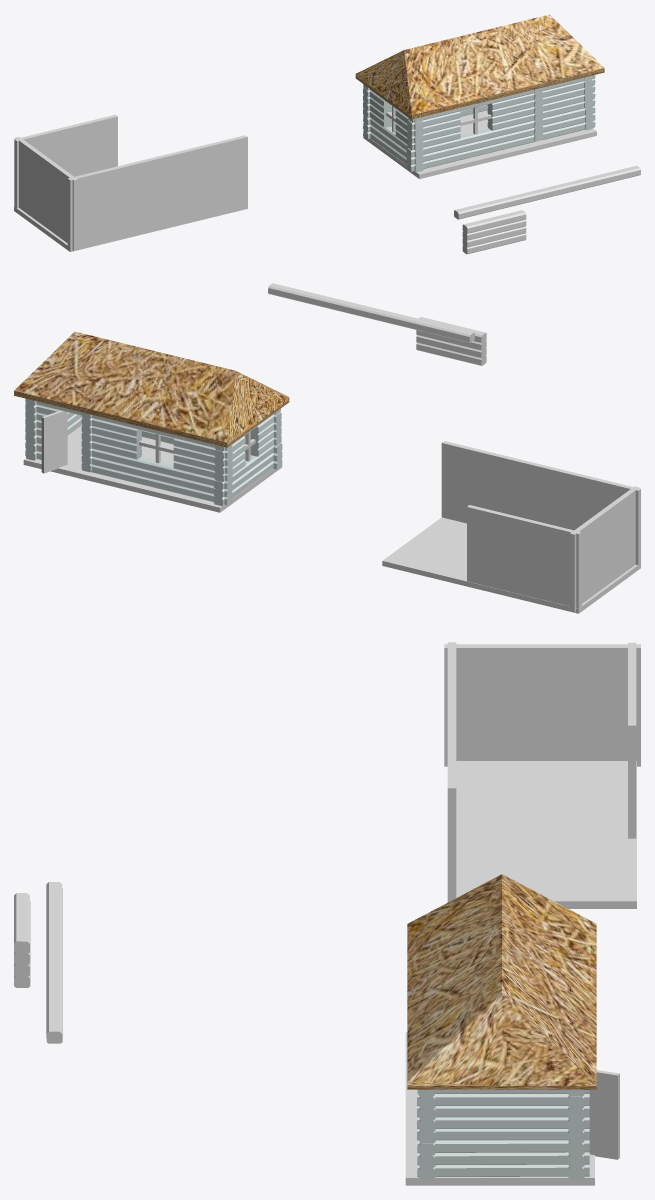
File: chata.fbx
3 views of the same model, one above another, from view 1: azimuth 30°, elevation 25°; view 2: azimuth 150°, elevation 25°; view 3: azimuth 270°, elevation 25° (orthographic). The views are drawn at different scales.
Visible parts, largest first — view 1: Cube.001, Cube.007, Cube.038, Cube.008, Cube.010, Cube, Cube.057, Cube.006, Cube.025, Cube.016, Cube.009, Cube.032; view 2: Cube.001, Cube.038, Cube.007, Cube.008, Cube.010, Cube.006, Cube, Cube.057, Cube.004, Cube.016, Cube.009; view 3: Cube.001, Cube.006, Cube.010, Cube.038, Cube, Cube.057, Cube.007, Cube.004, Cube.008, Cube.025.
Boxes of the visible parts, box(x1,y1,x2,y2) form: Cube.001: box(355, 14, 604, 119); Cube.007: box(67, 135, 247, 250); Cube.038: box(363, 75, 595, 172); Cube.008: box(14, 114, 117, 208); Cube.010: box(15, 136, 77, 250); Cube: box(363, 110, 596, 178); Cube.057: box(454, 165, 640, 219); Cube.006: box(14, 204, 247, 251); Cube.025: box(462, 210, 526, 233); Cube.016: box(462, 226, 526, 247); Cube.009: box(462, 233, 526, 254); Cube.032: box(462, 219, 526, 240); Cube.001: box(14, 331, 289, 447); Cube.038: box(25, 398, 282, 505); Cube.007: box(441, 441, 640, 564); Cube.008: box(467, 505, 581, 608); Cube.010: box(570, 486, 639, 612); Cube.006: box(382, 517, 640, 613); Cube: box(23, 425, 282, 512); Cube.057: box(268, 283, 474, 342); Cube.004: box(41, 410, 67, 473); Cube.016: box(416, 335, 486, 358); Cube.009: box(416, 343, 486, 365); Cube.001: box(407, 874, 596, 1089); Cube.006: box(447, 761, 636, 908); Cube.010: box(444, 644, 640, 766); Cube.038: box(417, 1089, 589, 1179); Cube: box(405, 1032, 594, 1185); Cube.057: box(46, 882, 62, 1043); Cube.007: box(447, 642, 456, 901); Cube.004: box(589, 1070, 619, 1159); Cube.008: box(628, 642, 636, 838); Cube.025: box(14, 893, 30, 953).
Bounding box in the file's own units: 14279 × 2741 × 8819.
